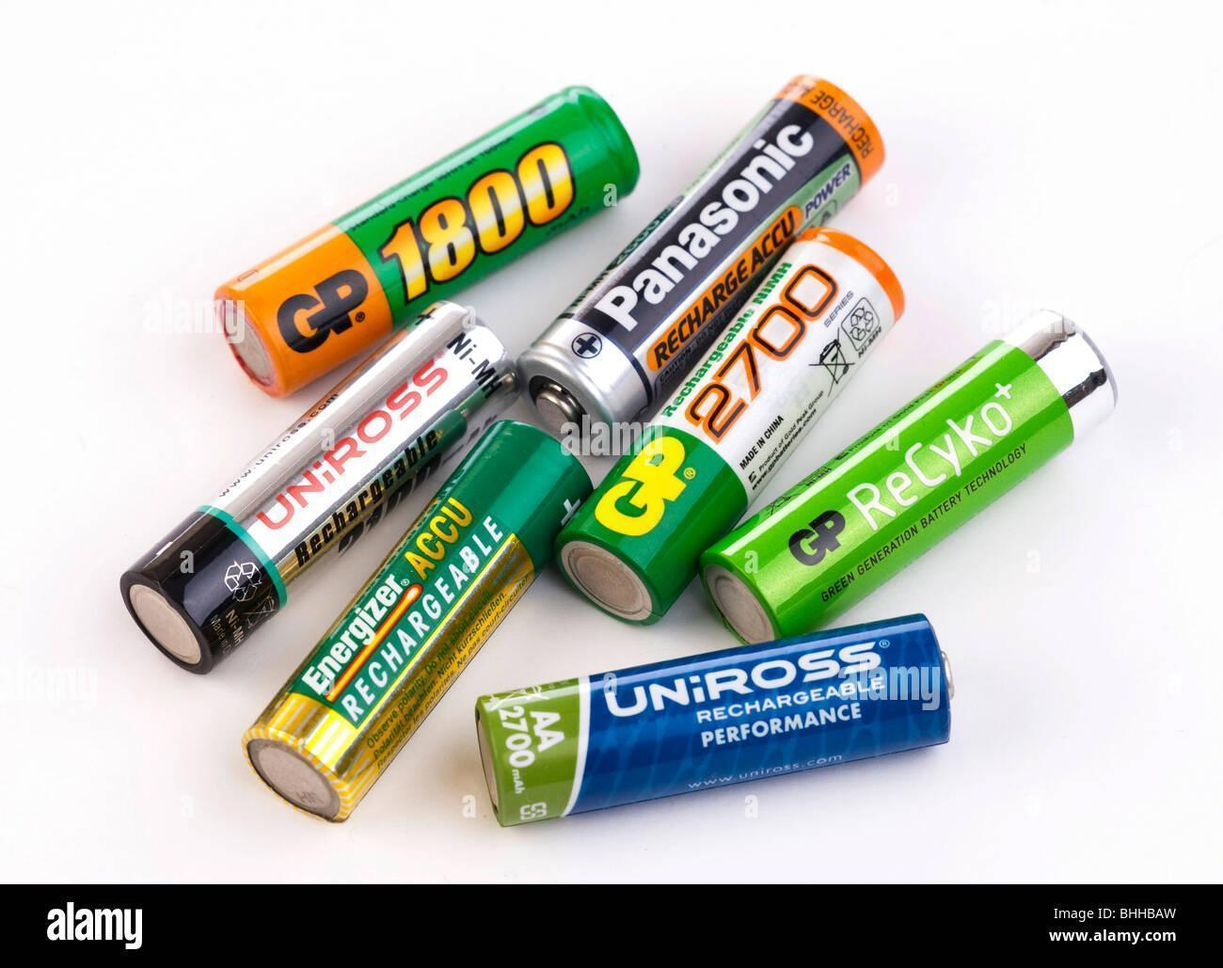AA: (113, 297, 532, 682), (237, 413, 602, 835), (510, 66, 894, 460), (697, 301, 1124, 648), (551, 223, 912, 633), (211, 80, 647, 407), (473, 606, 962, 832)
